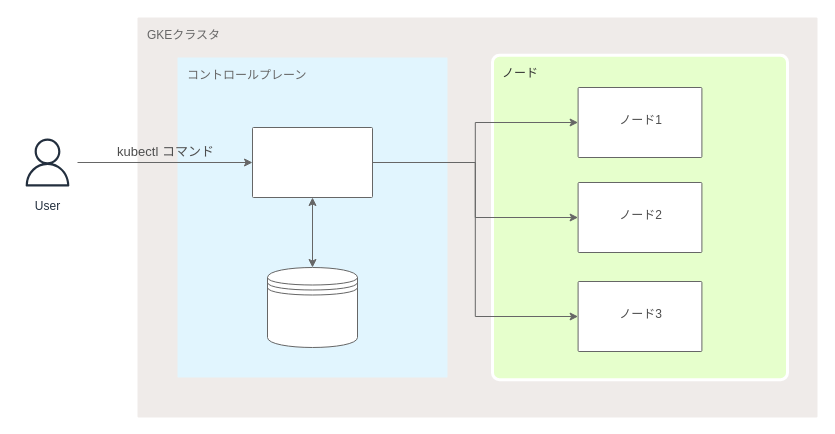
The diagram is 835 pixels wide and 434 high, and some of its shapes have lost their labels. The shapes that lost their labels are listed below. From the top down, each one's centre as x and y in pixels, then its label:
pixel 312 162: kube-api-server
pixel 312 307: etcd
